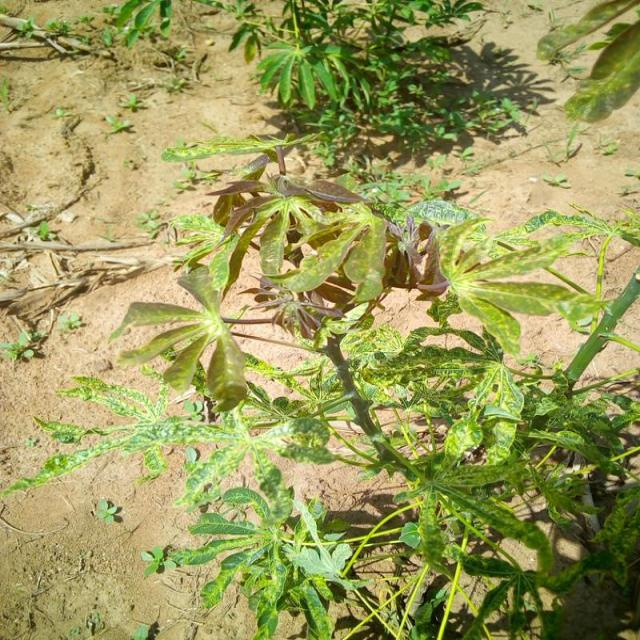cassava leaf: (108, 261, 249, 413), (562, 18, 638, 123)
